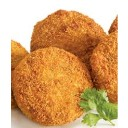cutlet: (13, 49, 96, 125), (31, 7, 107, 54), (94, 35, 118, 104)
